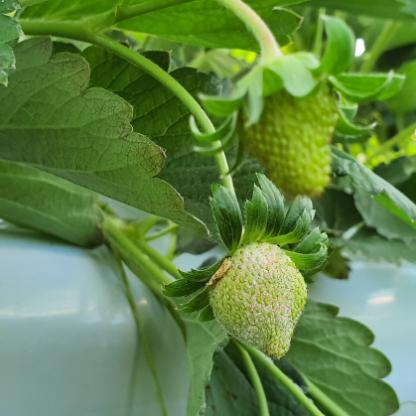Strawberry_Powdery_Mildew_Fruit: (209, 238, 307, 360)
